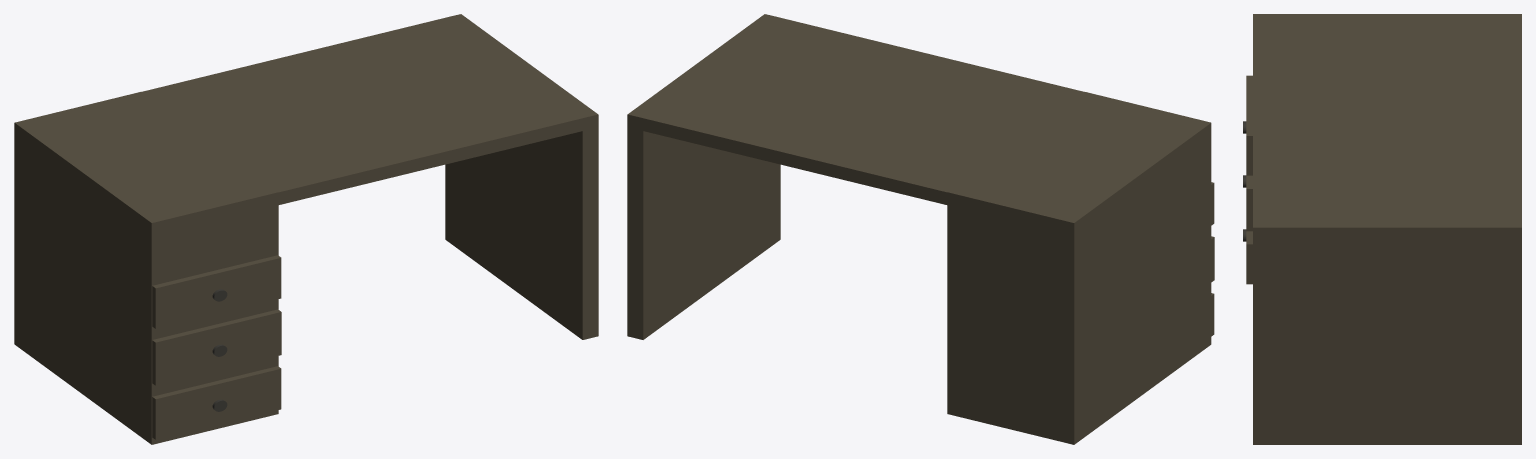
The model's file is bureau.fbx.
3 renders of one model, left to right at view 1: azimuth 30°, elevation 25°; view 2: azimuth 150°, elevation 25°; view 3: azimuth 270°, elevation 25°, orthographic. The views are drawn at different scales.
Visible parts, largest first — view 1: Cube.008; view 2: Cube.008; view 3: Cube.008.
Boxes of the visible parts, bbox=[...] form: Cube.008: bbox=[14, 14, 598, 444]; Cube.008: bbox=[627, 14, 1214, 444]; Cube.008: bbox=[1243, 14, 1521, 444].
Bounding box in the file's own units: 173 × 82.45 × 95.82.
